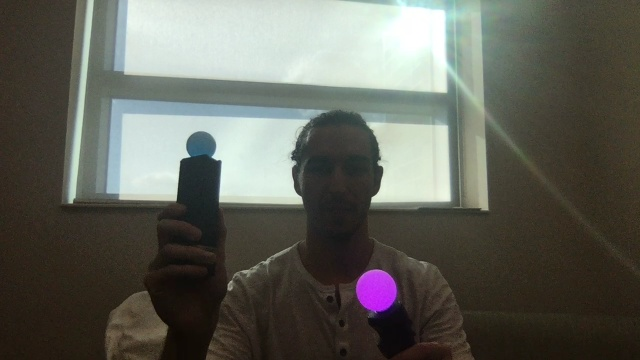wand: (358, 269, 396, 310), (187, 132, 217, 157)
